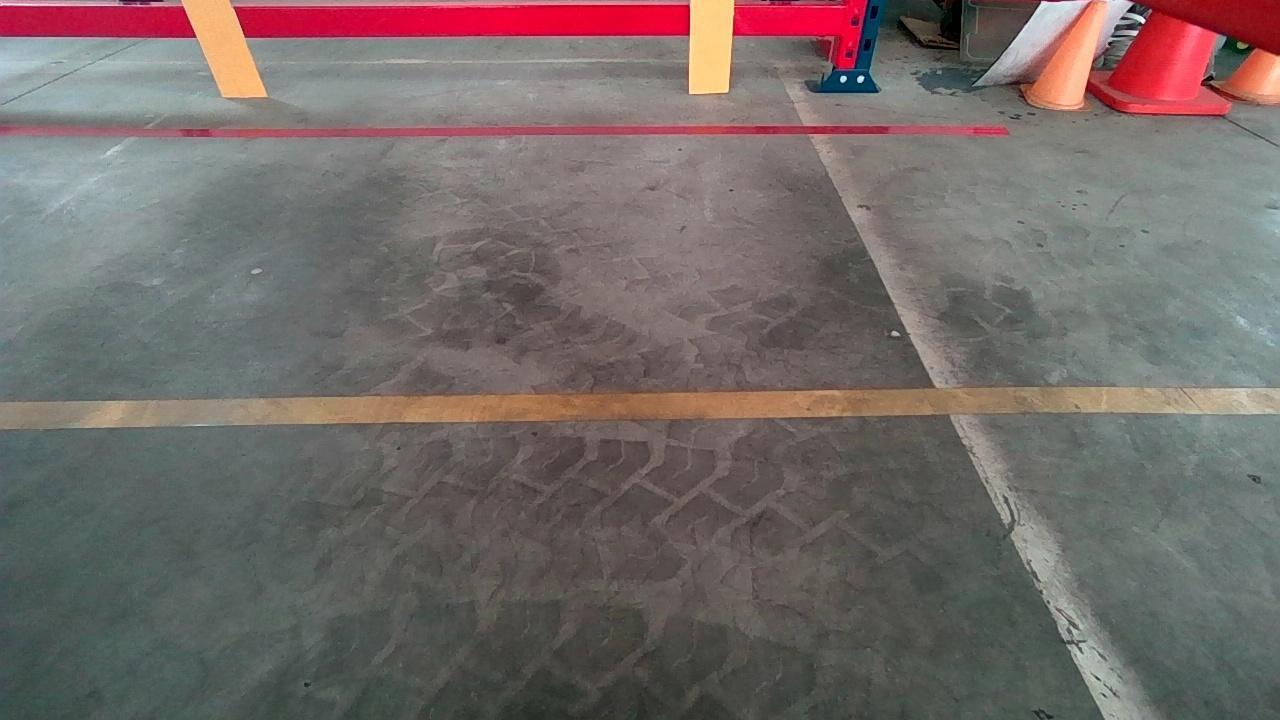h_rack: (3, 0, 846, 40)
orange_strip: (181, 0, 267, 94), (689, 0, 733, 89)
yellow_line: (11, 377, 1265, 450)
